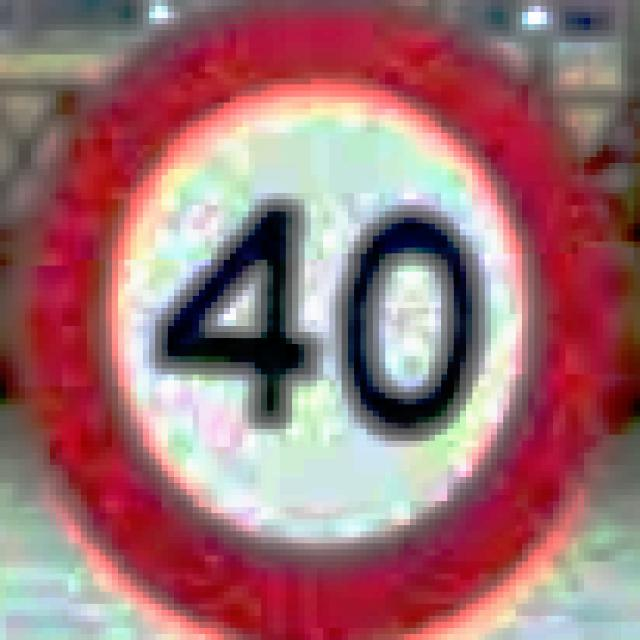max40: (0, 0, 634, 634)
